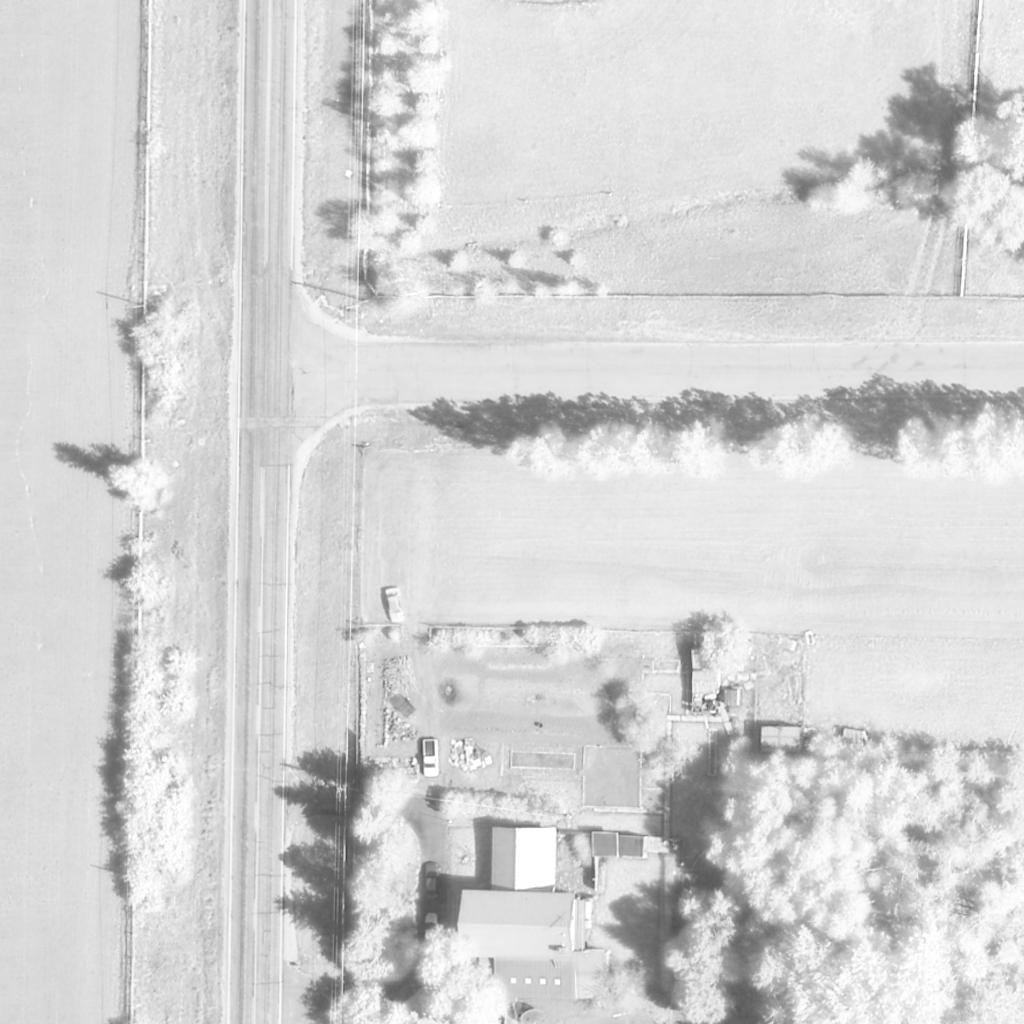vehicle: (419, 741, 441, 779), (384, 587, 406, 625), (424, 863, 444, 899), (423, 913, 439, 951)
